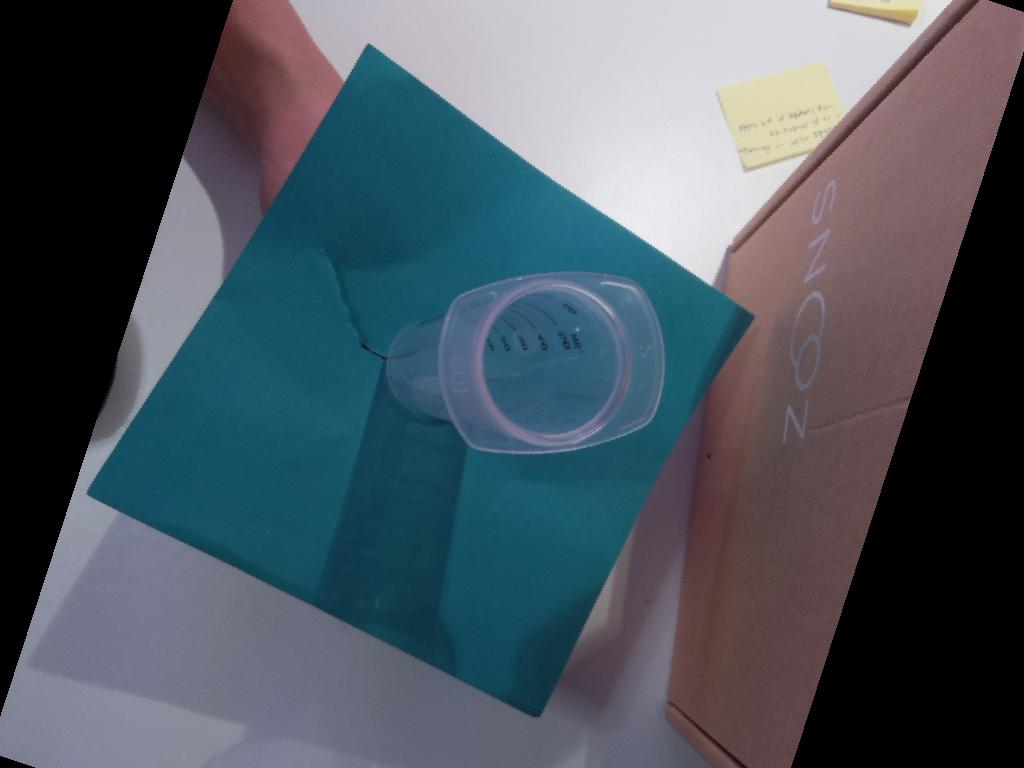clean: (437, 270, 670, 455)
